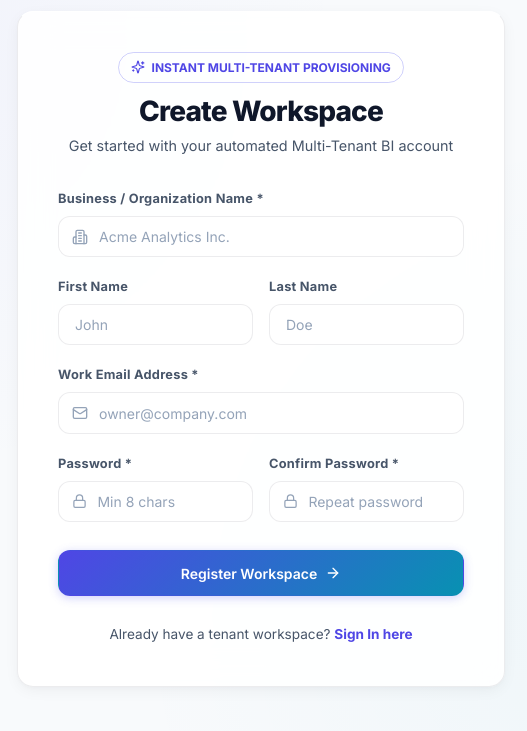
Test: SignupPage Component › shows error validation when passwords do not match
The width and height of the screenshot is (527, 731).
In the field with test id "business-name-input": (261, 237) left=58, top=216, right=464, bottom=257, type "Acme Corp"
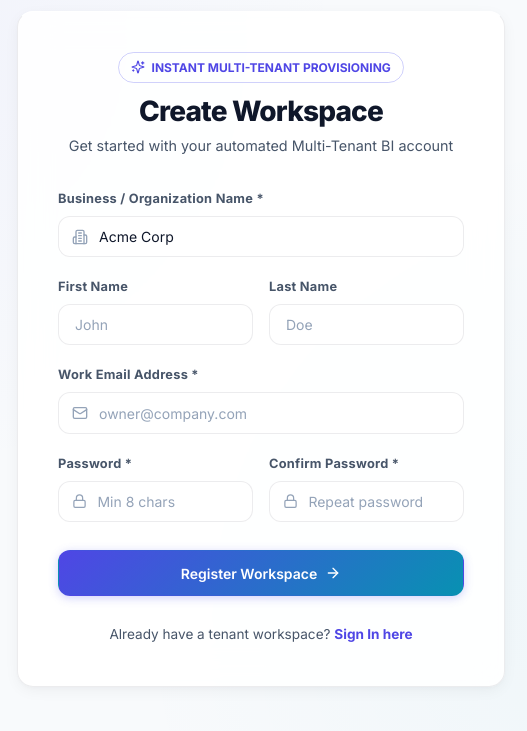
In the field with test id "email-input": (261, 413) left=58, top=392, right=464, bottom=434, type "owner@acme.com"
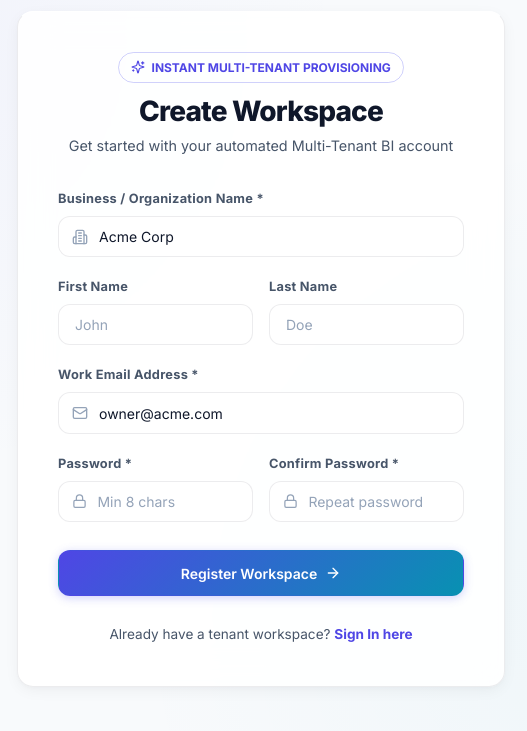
In the password field with test id "password-input": (156, 501) left=58, top=481, right=253, bottom=522, type "Password123!"
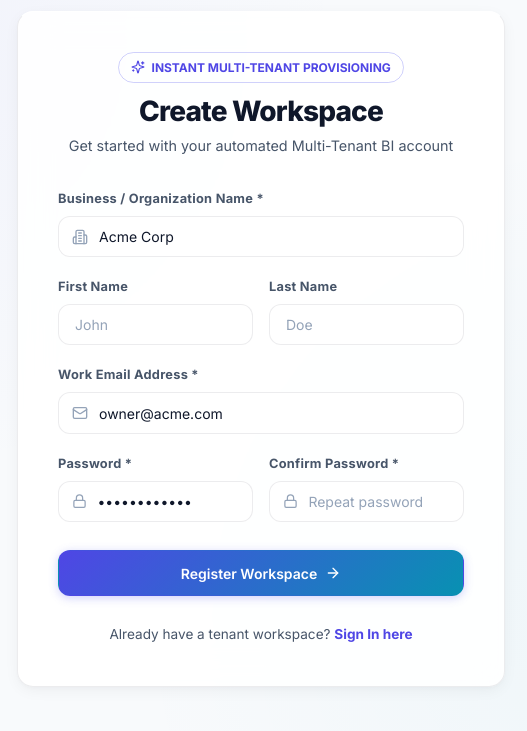
In the password field with test id "confirm-password-input": (366, 501) left=269, top=481, right=464, bottom=522, type "DifferentPass123!"
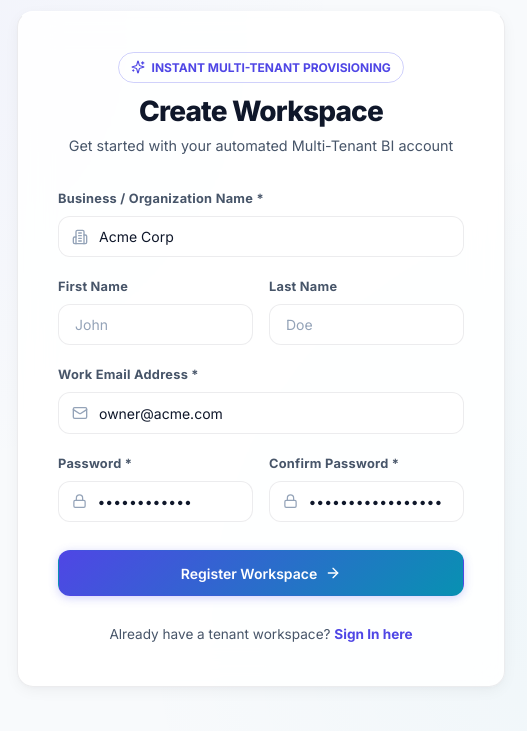
Click the button with test id "signup-submit-btn": (261, 573) left=58, top=550, right=464, bottom=596
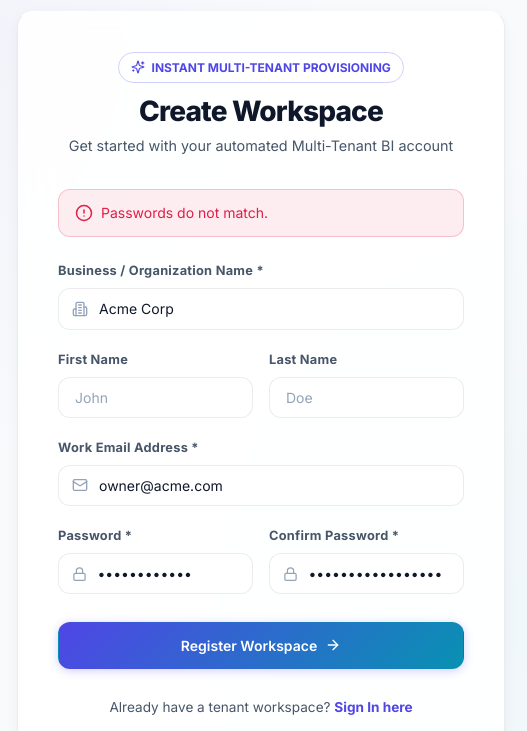
Now the element with test id "signup-error-alert" shows "Passwords do not match", box left=101, top=204, right=268, bottom=221
